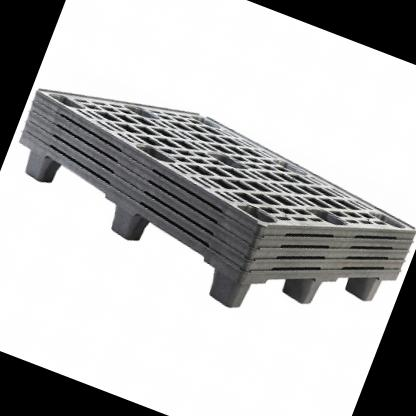BoxFace: (6, 133, 401, 312)
